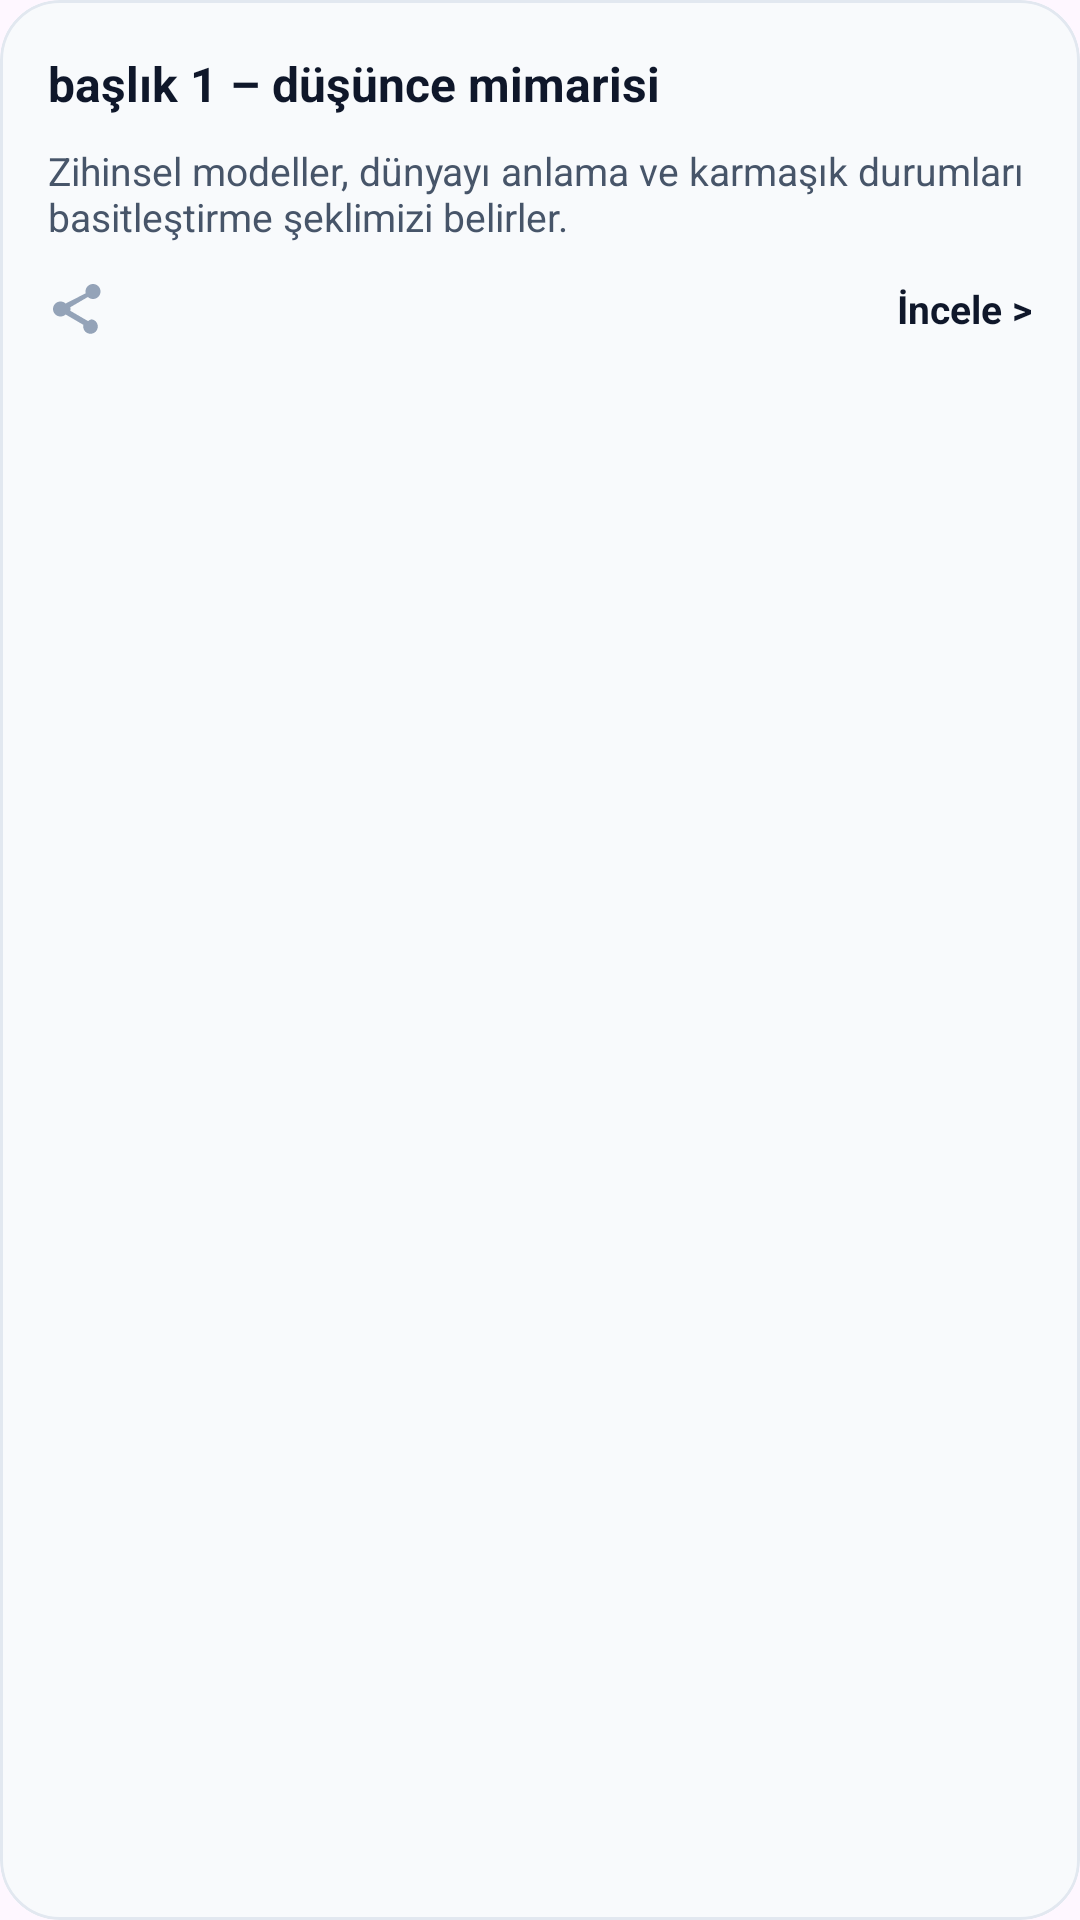

Named icons in this screenshot (1080x1920) and their centers, [x,y]:
share: [77,309]
